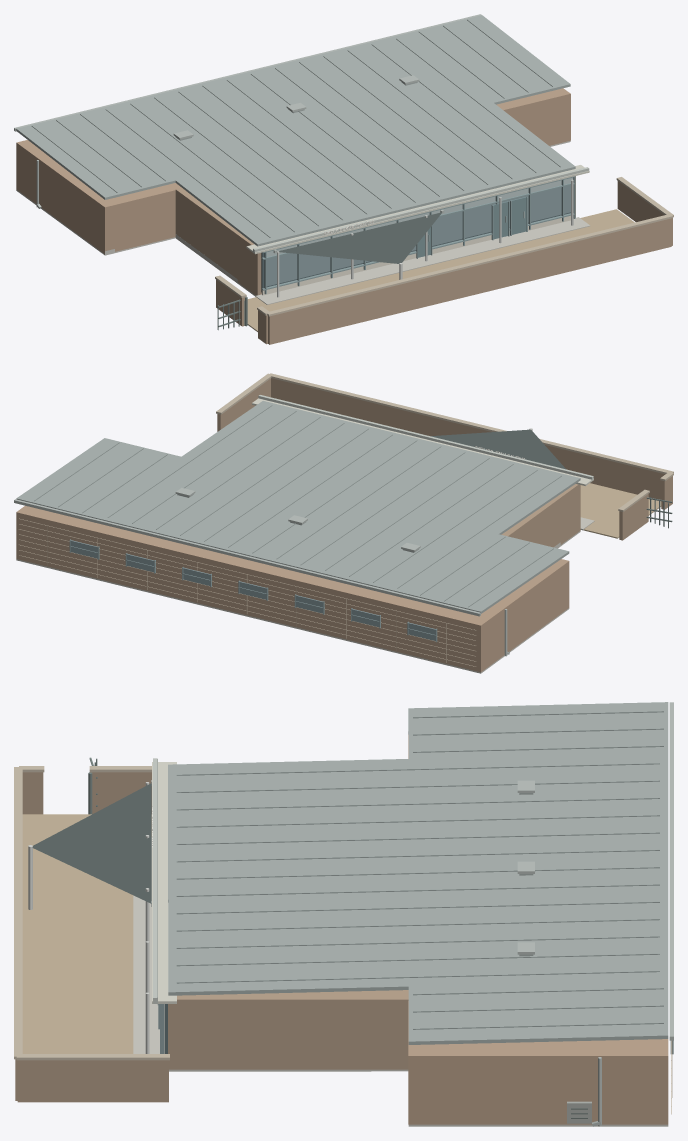
Rendered from edinburgh-gardens-emely-baker-centre.glb.
3 views of the same model, one above another, from view 1: azimuth 30°, elevation 25°; view 2: azimuth 150°, elevation 25°; view 3: azimuth 270°, elevation 25° (orthographic). The views are drawn at different scales.
Parts seen in each view (by area): view 1: Emely Baker Centre optimized runtime mesh; view 2: Emely Baker Centre optimized runtime mesh; view 3: Emely Baker Centre optimized runtime mesh.
Boxes of the visible parts, x1,y1,x2,y2 form: Emely Baker Centre optimized runtime mesh: (14,14,673,344); Emely Baker Centre optimized runtime mesh: (14,373,673,673); Emely Baker Centre optimized runtime mesh: (14,702,673,1126).
Size of the model in its own units: 29.32 by 3.74 by 24.17.
